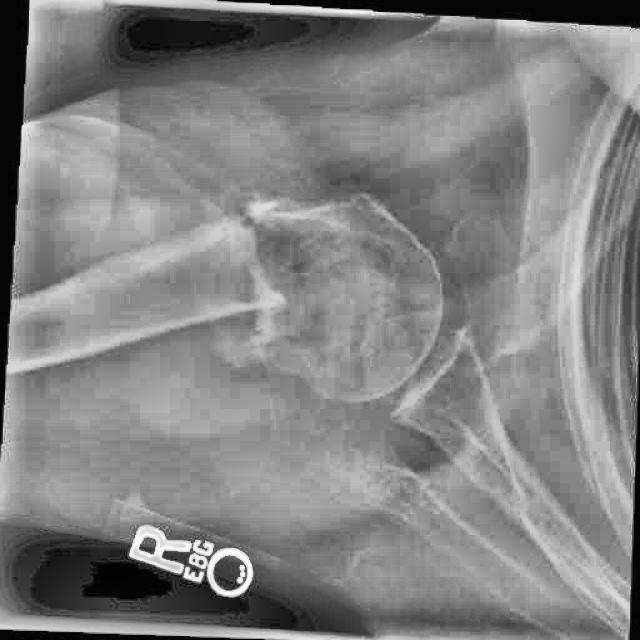shoulder fracture: (203, 163, 334, 341)
